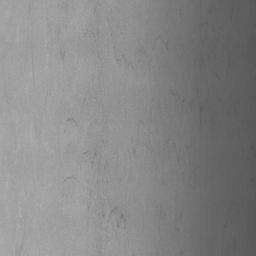Silk spot: (170, 90, 185, 106), (117, 213, 127, 229), (66, 117, 78, 126), (60, 48, 65, 61), (110, 206, 118, 214)
